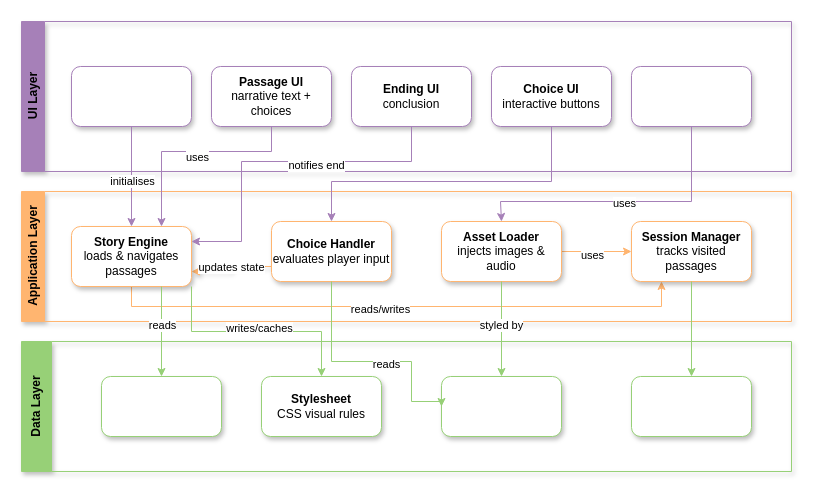
Some shapes in this 815 by 496 pixel diagram are drawn without their labels. The shapes that lost their labels are listed below. From the top down, each one's centre as x and y in pixels, then its label:
(132,98): Title Screen UI opening + instructions
(692,98): Asset Display UI images + audio player
(162,408): Story Content Twine passages (HTML)
(502,408): Asset Bundle images + audio files
(692,408): Session State browser sessionStorage
